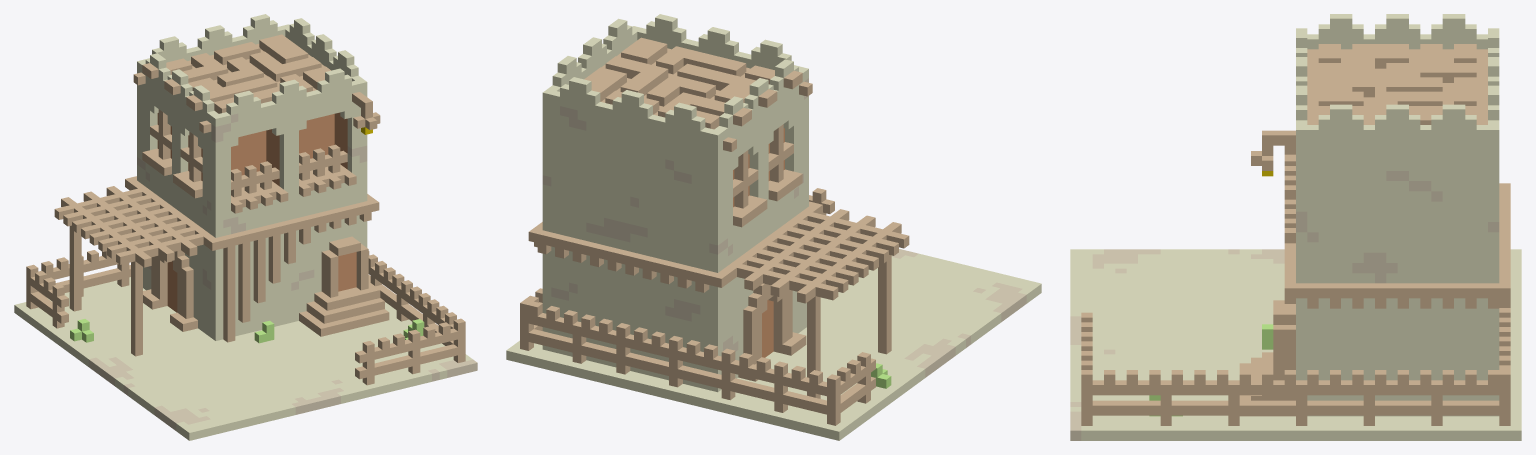
The model's file is Köybinası.glb.
3 renders of one model, left to right at view 1: azimuth 30°, elevation 25°; view 2: azimuth 150°, elevation 25°; view 3: azimuth 270°, elevation 25°, orthographic. The views are drawn at different scales.
Visible parts, largest first — view 1: VoxTransform; view 2: VoxTransform; view 3: VoxTransform.
Part boxes in pixels (x1,y1,x2,y2): VoxTransform: (14, 14, 477, 440); VoxTransform: (506, 14, 1041, 440); VoxTransform: (1070, 14, 1521, 440).
Bounding box in the file's own units: 38 × 31 × 40.
